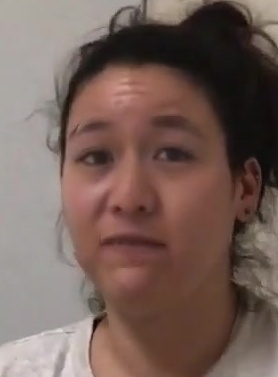eb_f: (62, 108, 215, 173)
